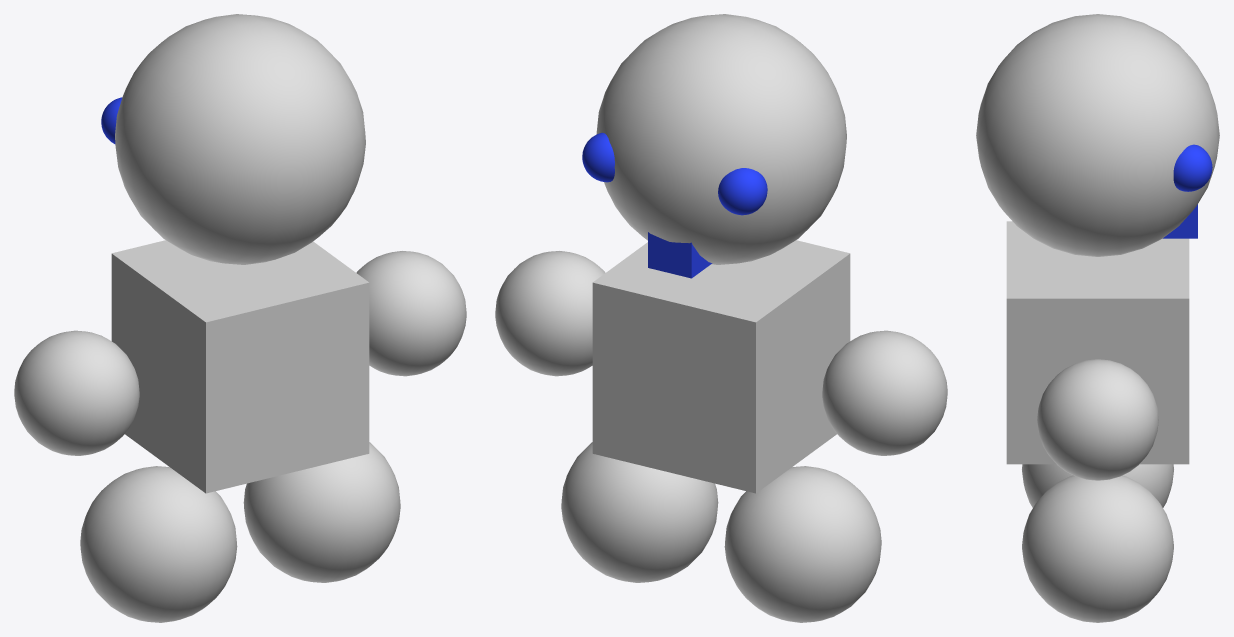
The model's file is PlayerModle.fbx.
3 renders of one model, left to right at view 1: azimuth 30°, elevation 25°; view 2: azimuth 150°, elevation 25°; view 3: azimuth 270°, elevation 25°, orthographic. The views are drawn at different scales.
Parts seen in each view (by area): view 1: Body, Head, LLge, RLeg, LHand, RHand; view 2: Body, Head, LLge, RLeg, LHand, RHand, REye, Mouth, LEye; view 3: Head, Body, RLeg, RHand, LLge, LEye, Mouth.
Part boxes in pixels (left/top/right/bottom): Body: left=111, top=240, right=369, bottom=493; Head: left=115, top=14, right=365, bottom=264; LLge: left=80, top=466, right=237, bottom=622; RLeg: left=243, top=442, right=400, bottom=582; LHand: left=14, top=330, right=139, bottom=455; RHand: left=356, top=251, right=466, bottom=376; Body: left=592, top=240, right=850, bottom=493; Head: left=596, top=14, right=846, bottom=264; LLge: left=724, top=466, right=881, bottom=622; RLeg: left=561, top=442, right=718, bottom=582; LHand: left=822, top=330, right=947, bottom=455; RHand: left=495, top=251, right=605, bottom=376; REye: left=718, top=168, right=767, bottom=215; Mouth: left=648, top=232, right=712, bottom=278; LEye: left=582, top=132, right=614, bottom=182; Head: left=976, top=14, right=1219, bottom=256; Body: left=1006, top=221, right=1189, bottom=464; RLeg: left=1022, top=475, right=1173, bottom=622; RHand: left=1037, top=359, right=1158, bottom=480; LLge: left=1022, top=464, right=1173, bottom=507; LEye: left=1173, top=144, right=1212, bottom=191; Mouth: left=1163, top=204, right=1197, bottom=238.
Size of the model in its own units: 160 by 200 by 80.
